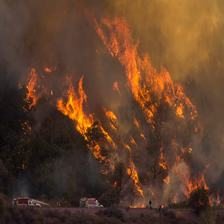fire: (18, 13, 209, 199)
